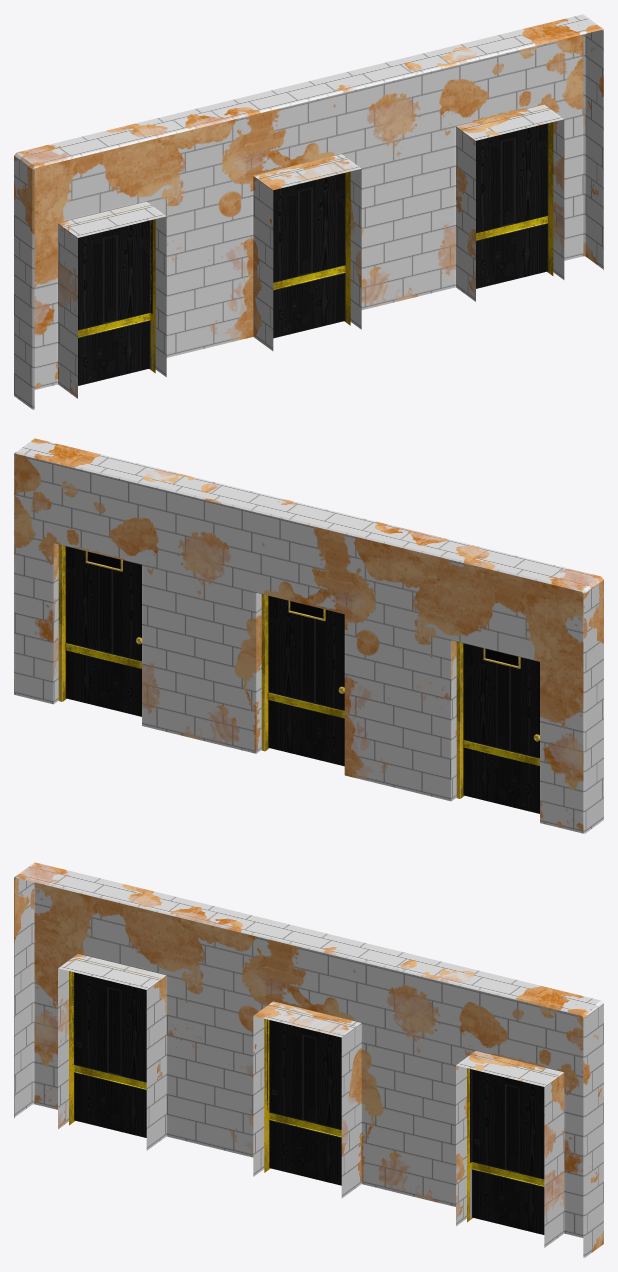
File: 3DoorWall.fbx
The picture shows the model from 3 angles, top to bottom: view 1: azimuth 30°, elevation 25°; view 2: azimuth 150°, elevation 25°; view 3: azimuth 330°, elevation 25°; orthographic projection.
Visible parts, largest first — view 1: 3 Door Wall, Door.002, Door.004, Door.003, DoorFrame.003, DoorFrame.004, DoorFrame.002; view 2: 3 Door Wall, Door.004, Door.002, Door.003, DoorFrame.002, DoorFrame.003, DoorFrame.004; view 3: 3 Door Wall, Door.003, Door.004, Door.002, DoorFrame.004, DoorFrame.002, DoorFrame.003.
Part boxes in pixels (<box>): 3 Door Wall: <box>14,14,603,409</box>; Door.002: <box>78,220,152,385</box>; Door.004: <box>273,172,345,338</box>; Door.003: <box>476,123,548,288</box>; DoorFrame.003: <box>461,108,553,275</box>; DoorFrame.004: <box>259,157,350,325</box>; DoorFrame.002: <box>64,205,155,373</box>; 3 Door Wall: <box>14,438,603,833</box>; Door.004: <box>267,595,344,766</box>; Door.002: <box>463,643,539,813</box>; Door.003: <box>65,546,141,716</box>; DoorFrame.002: <box>456,641,520,798</box>; DoorFrame.003: <box>58,544,122,701</box>; DoorFrame.004: <box>261,594,325,751</box>; 3 Door Wall: <box>14,862,603,1257</box>; Door.003: <box>470,1069,544,1234</box>; Door.004: <box>267,1019,341,1185</box>; Door.002: <box>72,972,146,1137</box>; DoorFrame.004: <box>264,1005,355,1172</box>; DoorFrame.002: <box>69,957,160,1125</box>; DoorFrame.003: <box>467,1054,558,1222</box>.
Bounding box in the file's own units: 8.24 × 0.4985 × 3.35.
